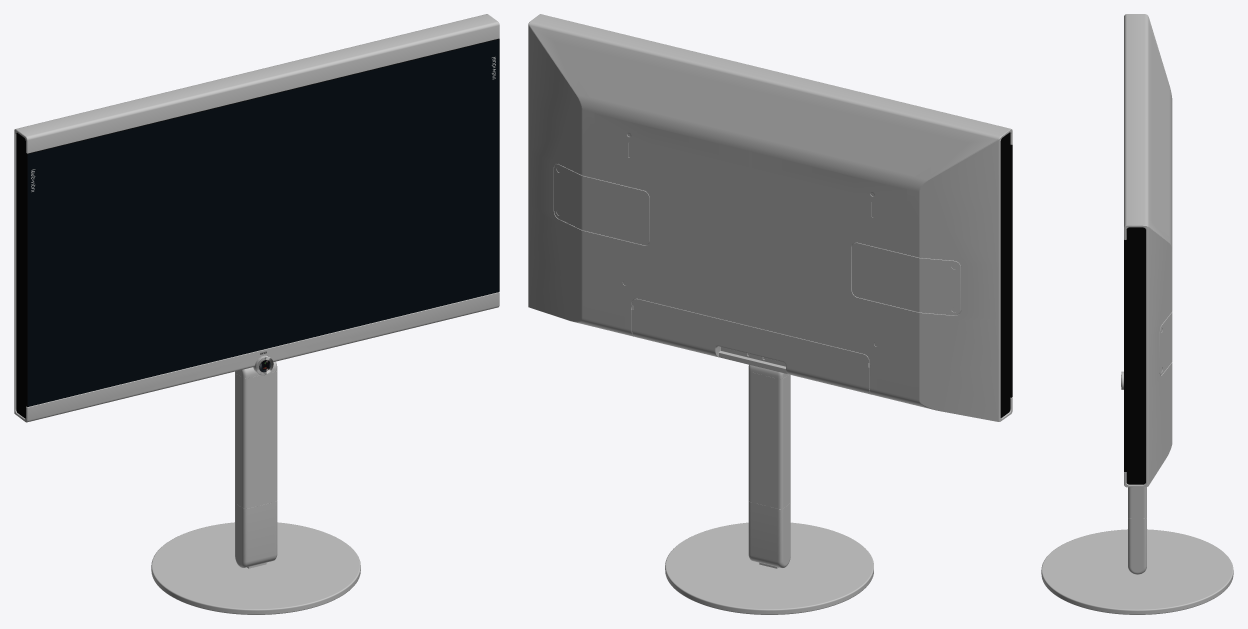
Rendered from loewe_tv_individual_compose_3.dae.
3 views of the same model, side by side, from view 1: azimuth 30°, elevation 25°; view 2: azimuth 150°, elevation 25°; view 3: azimuth 270°, elevation 25° (orthographic). The views are drawn at different scales.
Visible parts, largest first — view 1: Model__loewe_tv_individual_compose_3 (×7); view 2: Model__loewe_tv_individual_compose_3 (×6); view 3: Model__loewe_tv_individual_compose_3 (×6).
Part boxes in pixels (bbox=[...]): Model__loewe_tv_individual_compose_3 (×7): bbox=[14, 14, 499, 614]; Model__loewe_tv_individual_compose_3 (×6): bbox=[528, 14, 1012, 614]; Model__loewe_tv_individual_compose_3 (×6): bbox=[1041, 14, 1233, 614].
Bounding box in the file's own units: 131 × 50.2 × 131.
